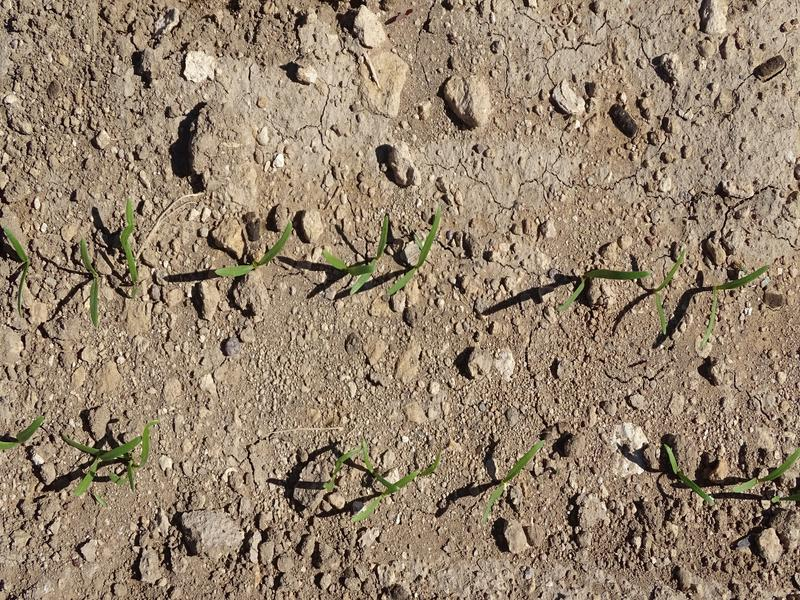Espinaca: (323, 207, 442, 295), (321, 442, 410, 522), (61, 428, 155, 493), (698, 260, 771, 341), (483, 437, 547, 521), (211, 222, 295, 282), (659, 441, 722, 509), (734, 436, 796, 501), (567, 258, 635, 316), (73, 236, 108, 326), (114, 196, 148, 285), (650, 251, 683, 335), (7, 228, 34, 313)
